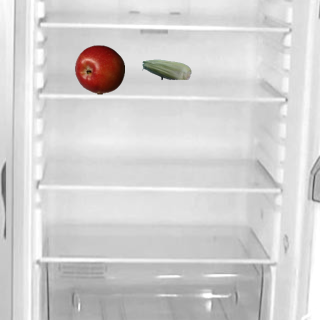Apple Braeburn: (74, 44, 124, 94)
Corn Husk: (141, 44, 191, 94)
